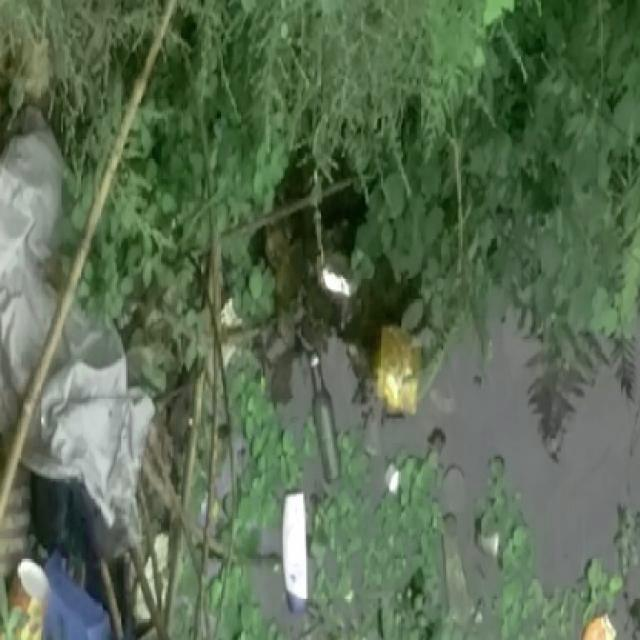Metal: (0, 560, 72, 633)
Plastic: (280, 488, 318, 626)
Trash: (0, 130, 169, 524), (373, 324, 426, 424)
